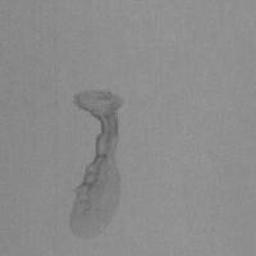Water spot: (68, 87, 125, 243)
